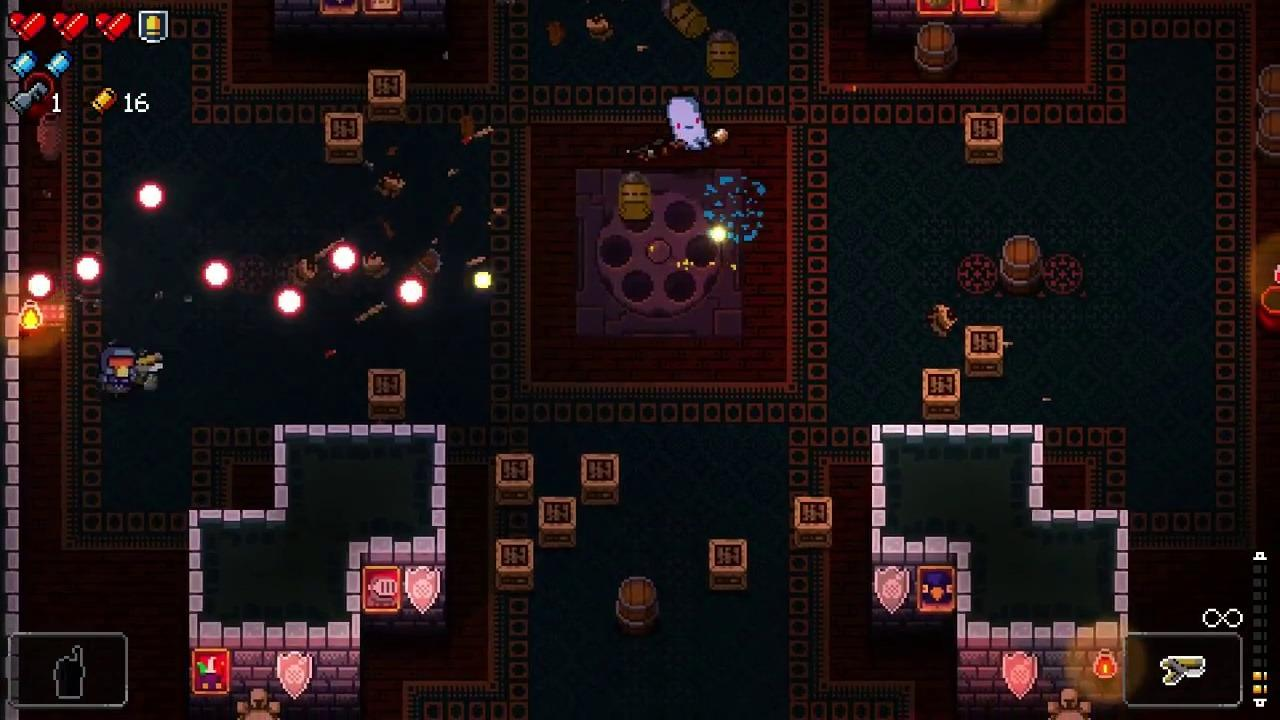bullet: (71, 253, 105, 286), (396, 276, 427, 309), (203, 258, 232, 292), (274, 287, 305, 317), (328, 242, 359, 272), (136, 181, 165, 211), (26, 272, 55, 301)
dead_bullet_kin: (661, 0, 707, 39), (705, 30, 741, 79), (618, 171, 653, 221)
hollowpoint: (665, 95, 714, 151)
player: (99, 346, 137, 399)
teleporter: (573, 167, 745, 340)
